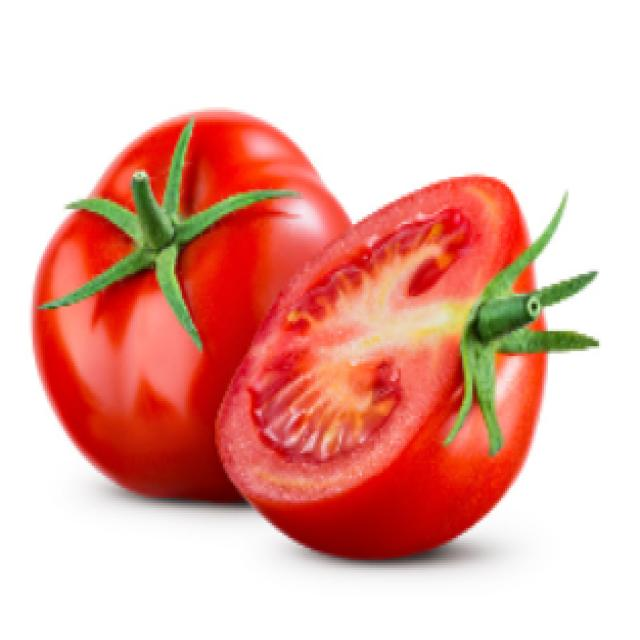Tomato: (63, 135, 580, 555)
